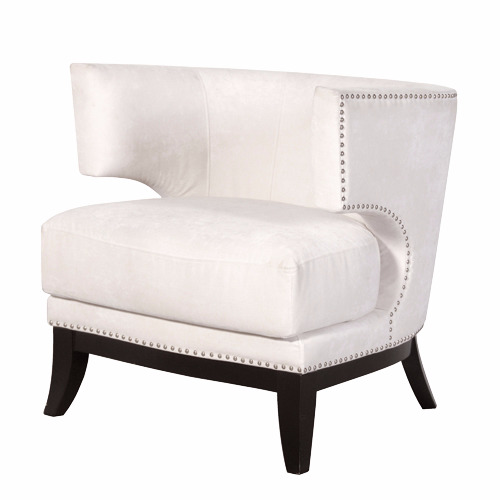chairs: (39, 59, 457, 475)
